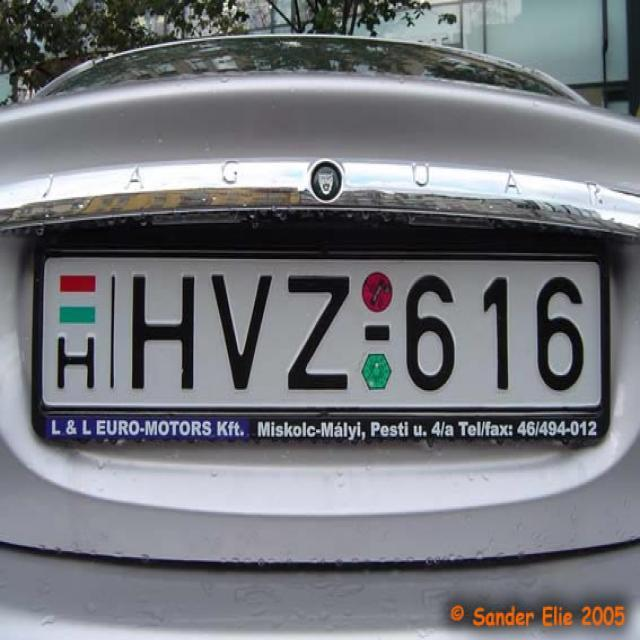licence: (32, 240, 611, 450)
